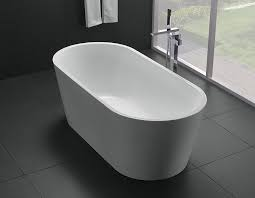bathub: (50, 37, 211, 181)
